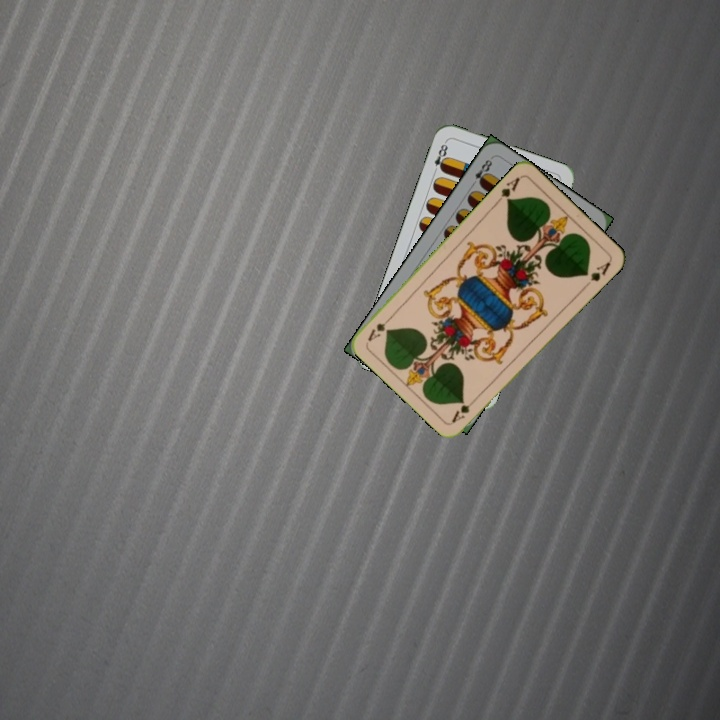E8: (467, 155, 495, 189), (429, 137, 451, 177)
GA: (492, 173, 523, 206), (448, 394, 480, 425)
